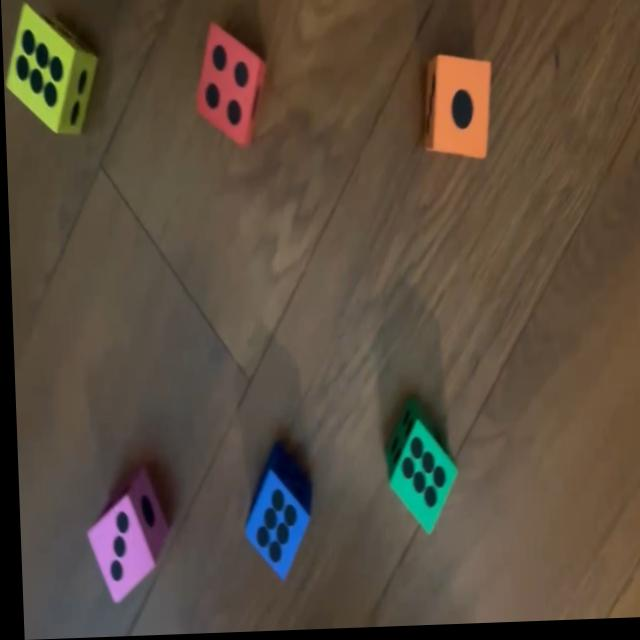cube: (378, 399, 457, 541), (238, 448, 308, 584), (192, 24, 267, 150)
